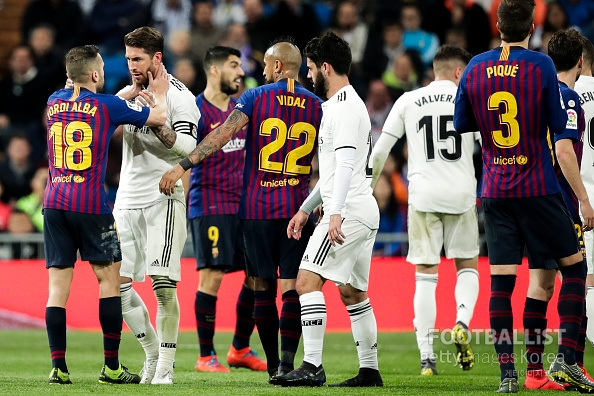barcelona: (462, 2, 560, 394), (34, 42, 140, 390), (183, 37, 266, 379), (241, 40, 314, 385), (541, 31, 592, 391)
realmadrid: (376, 44, 486, 388), (291, 39, 394, 393), (103, 28, 198, 387)
